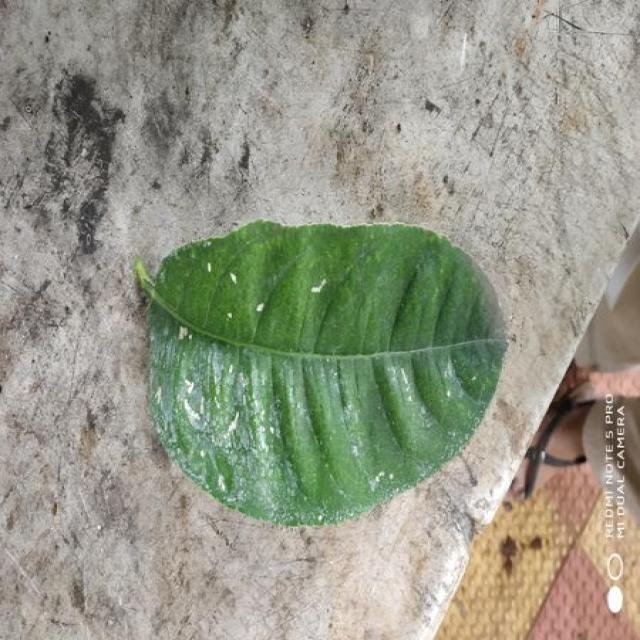badipala: (138, 220, 505, 524)
defectedbadipala: (150, 305, 293, 523)
